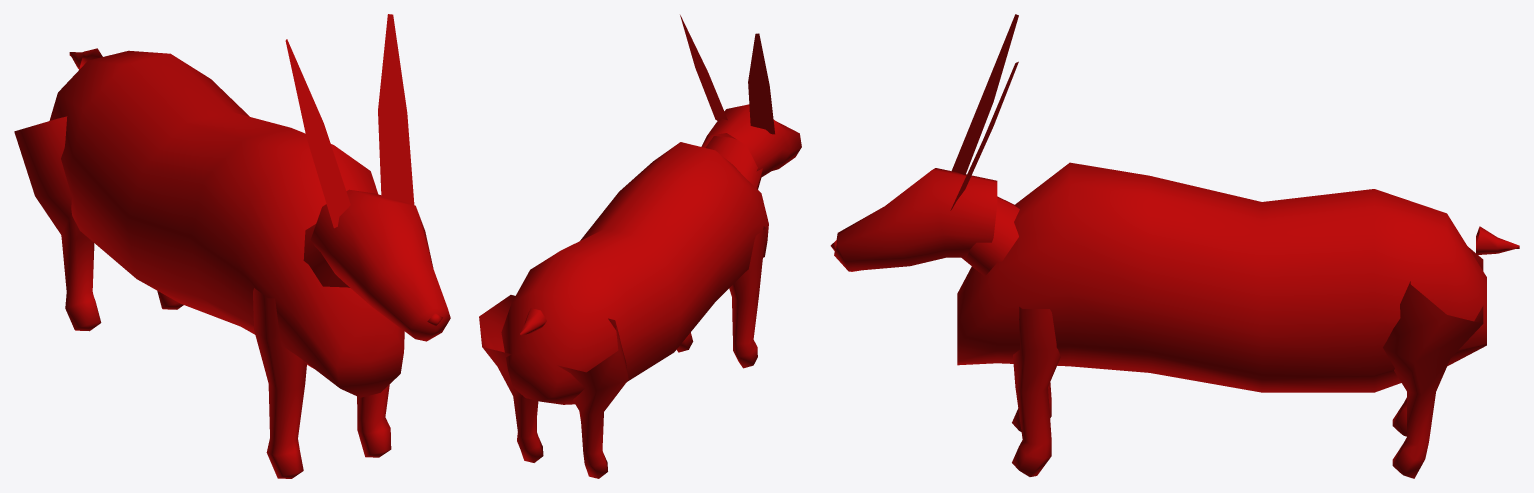
The model's file is hare.glb.
3 renders of one model, left to right at view 1: azimuth 30°, elevation 25°; view 2: azimuth 150°, elevation 25°; view 3: azimuth 270°, elevation 25°, orthographic. The views are drawn at different scales.
Parts seen in each view (by area): view 1: body, head, leg_lh, leg_lf, leg_rf; view 2: body, head, leg_lh, leg_rh, leg_lf, tail; view 3: body, head, leg_rh, leg_rf, tail.
Part boxes in pixels (x1=…): body: x1=49, y1=50, x2=404, y2=397; head: x1=285, y1=14, x2=450, y2=341; leg_lh: x1=14, y1=116, x2=101, y2=331; leg_lf: x1=253, y1=288, x2=306, y2=478; leg_rf: x1=357, y1=384, x2=391, y2=457; body: x1=501, y1=142, x2=768, y2=404; head: x1=680, y1=15, x2=801, y2=189; leg_lh: x1=557, y1=318, x2=628, y2=478; leg_rh: x1=479, y1=295, x2=543, y2=462; leg_lf: x1=729, y1=226, x2=766, y2=368; tail: x1=520, y1=308, x2=546, y2=335; body: x1=957, y1=162, x2=1486, y2=392; head: x1=830, y1=14, x2=1019, y2=276; leg_rh: x1=1383, y1=281, x2=1483, y2=478; leg_rf: x1=1012, y1=307, x2=1060, y2=476; tail: x1=1476, y1=226, x2=1519, y2=255.
Bounding box in the file's own units: 0.2188 × 0.4961 × 0.7422.
